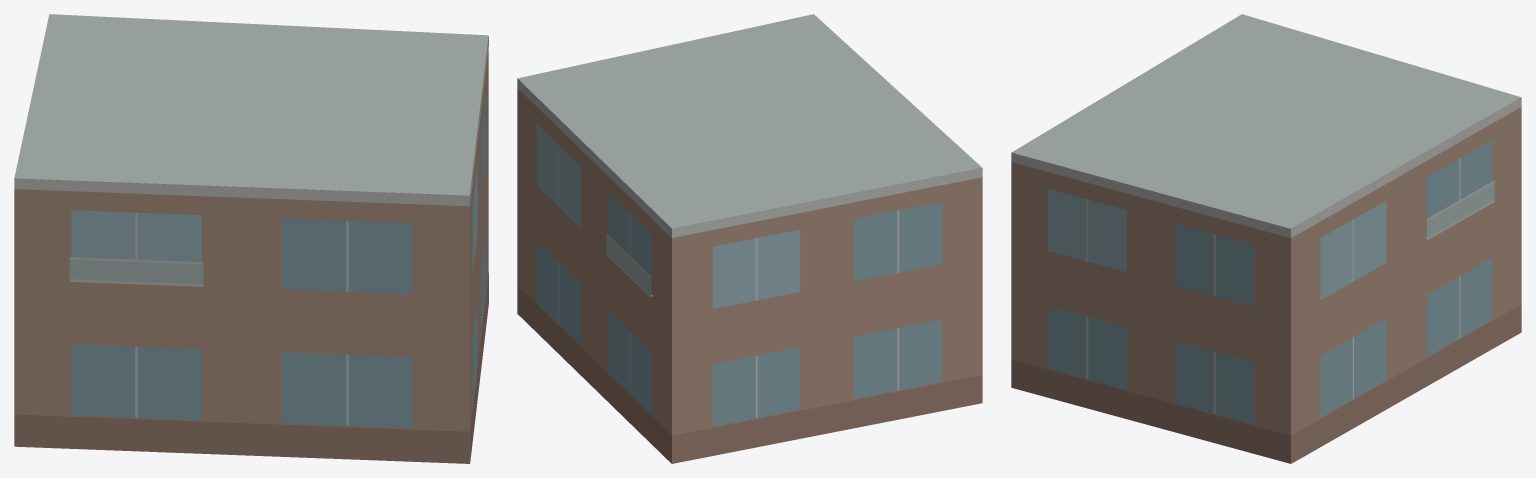
Rendered from survey-upis-32651997.glb.
3 views of the same model, side by side, from view 1: azimuth 30°, elevation 25°; view 2: azimuth 150°, elevation 25°; view 3: azimuth 270°, elevation 25° (orthographic). The views are drawn at different scales.
Visible parts, largest first — view 1: survey-upis-32651997.tmp; view 2: survey-upis-32651997.tmp; view 3: survey-upis-32651997.tmp.
Boxes of the visible parts, x1,y1,x2,y2 form: survey-upis-32651997.tmp: (14, 14, 488, 463); survey-upis-32651997.tmp: (517, 14, 982, 463); survey-upis-32651997.tmp: (1011, 14, 1521, 463).
Size of the model in its own units: 11.97 by 6.1 by 12.01.
